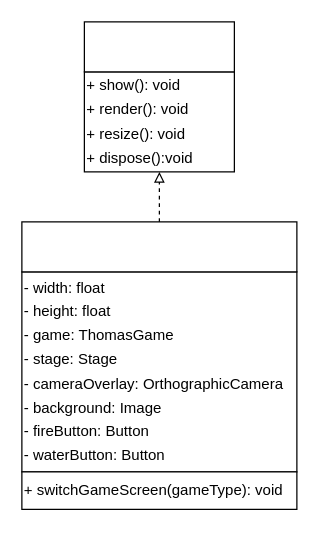
Some shapes in this 319 by 539 pixel diagram are drawn without their labels. The box of each missing label's shape, as (x1, y1, x2, y2) in pixels:
<<interface>> Screen: (83, 21, 234, 72)
CharactersScreen: (21, 221, 297, 272)
